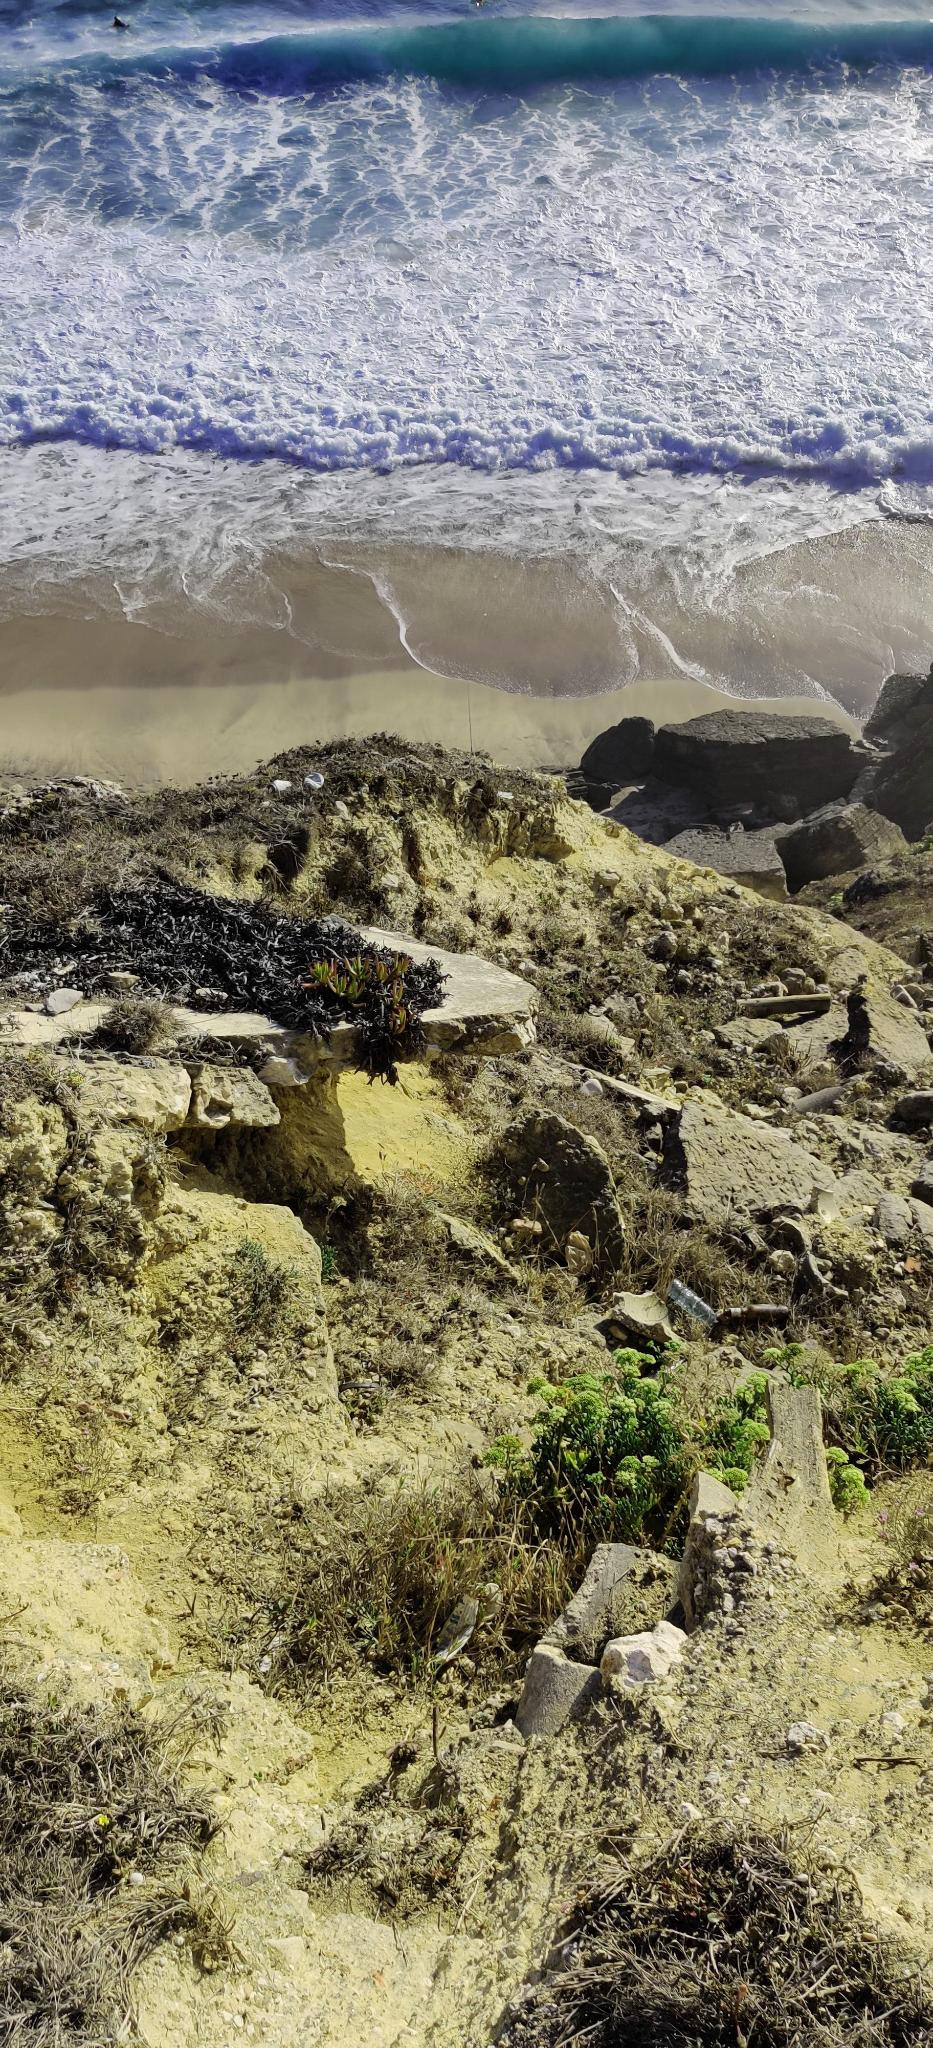Metal: (298, 765, 328, 799), (263, 773, 297, 803)
Plastic: (660, 1273, 724, 1335)
